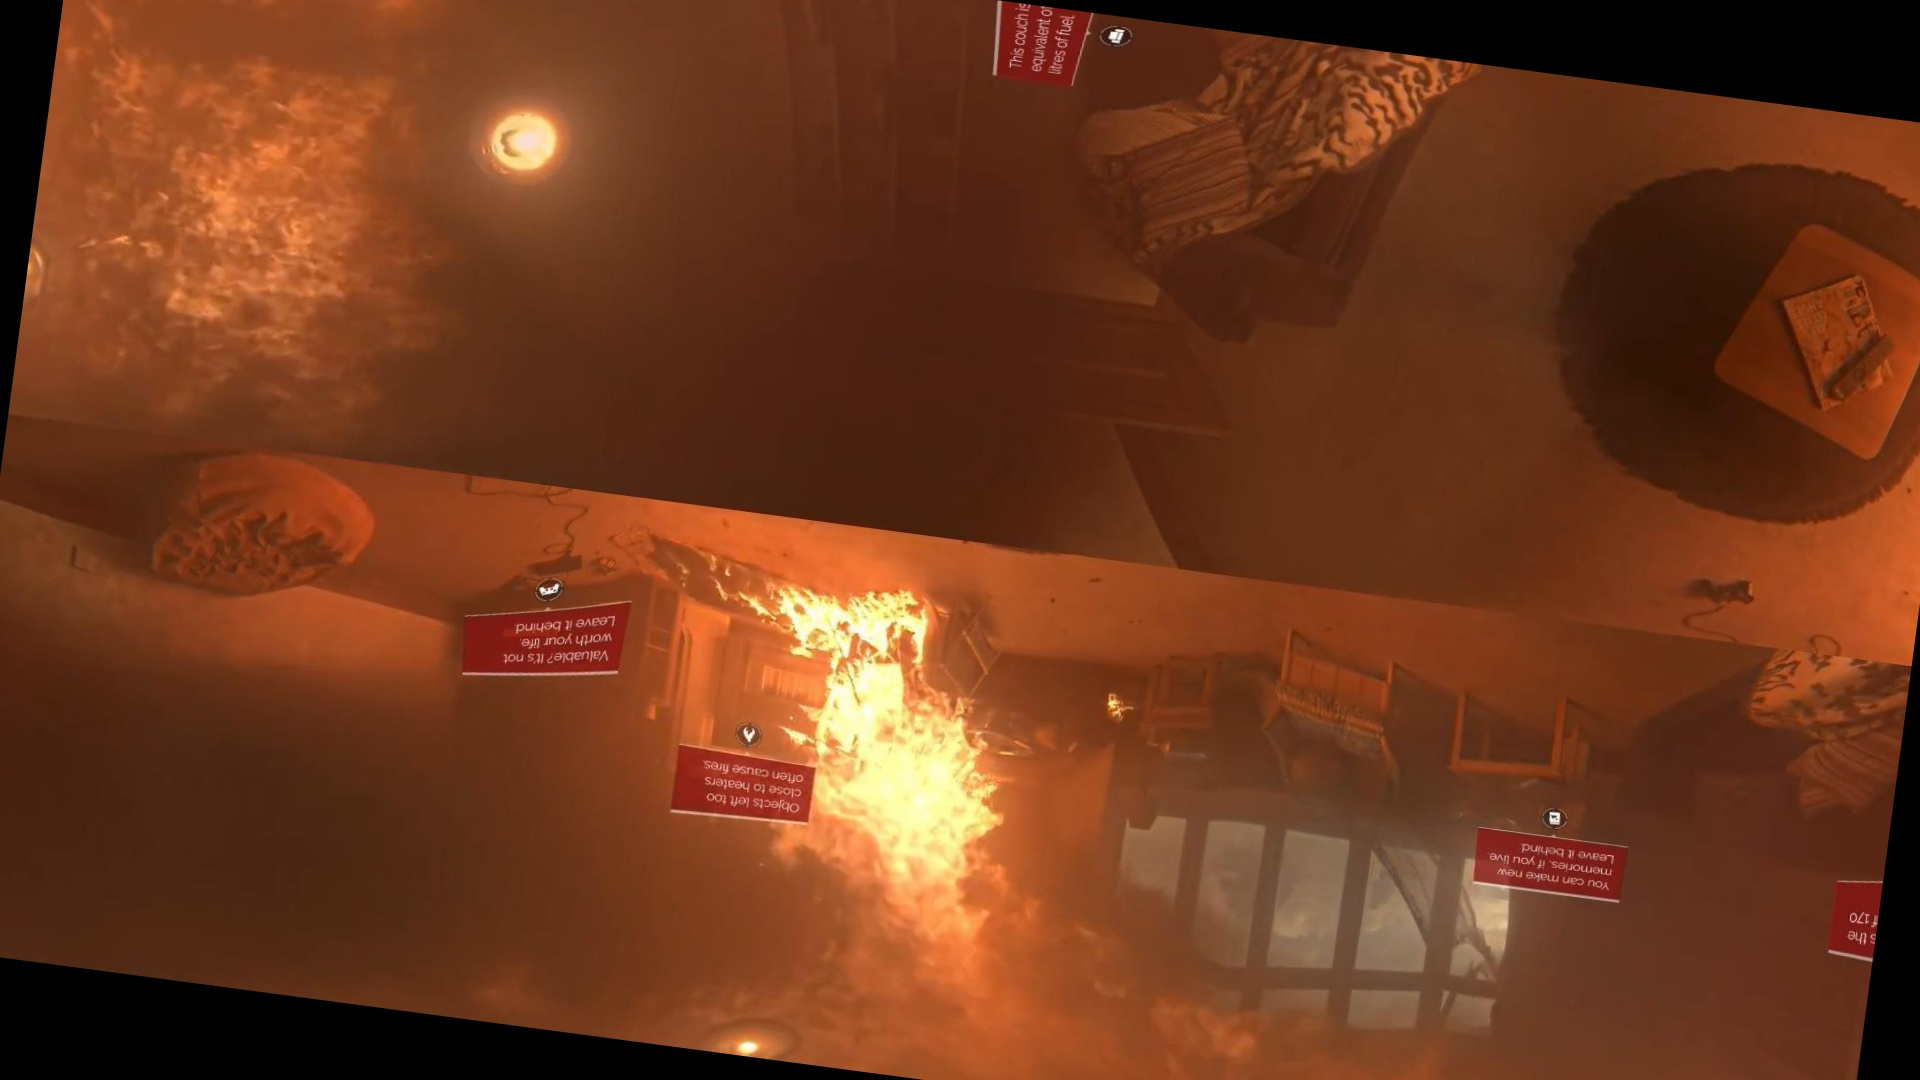fire: (791, 675, 1064, 1029)
